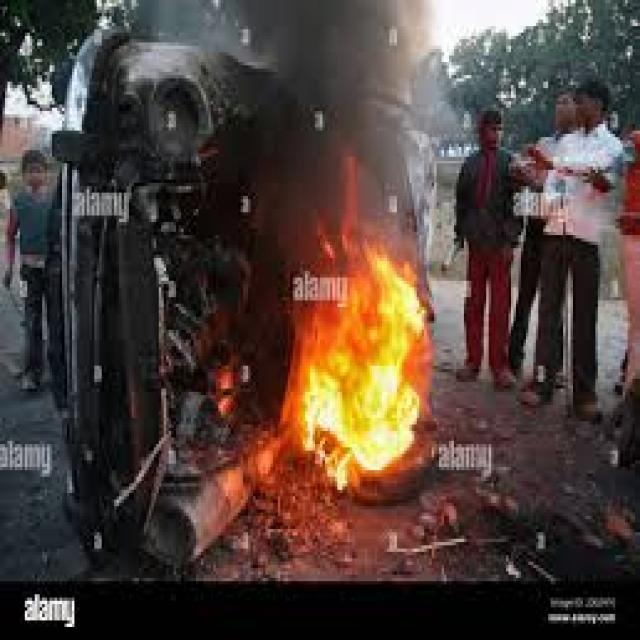Fire: (295, 152, 433, 489)
Smoke: (238, 0, 431, 153)
